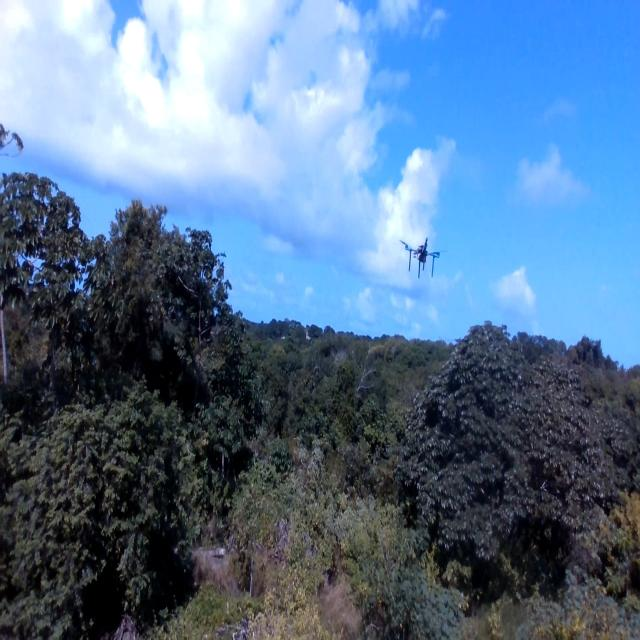-uav-: (398, 233, 442, 286)
